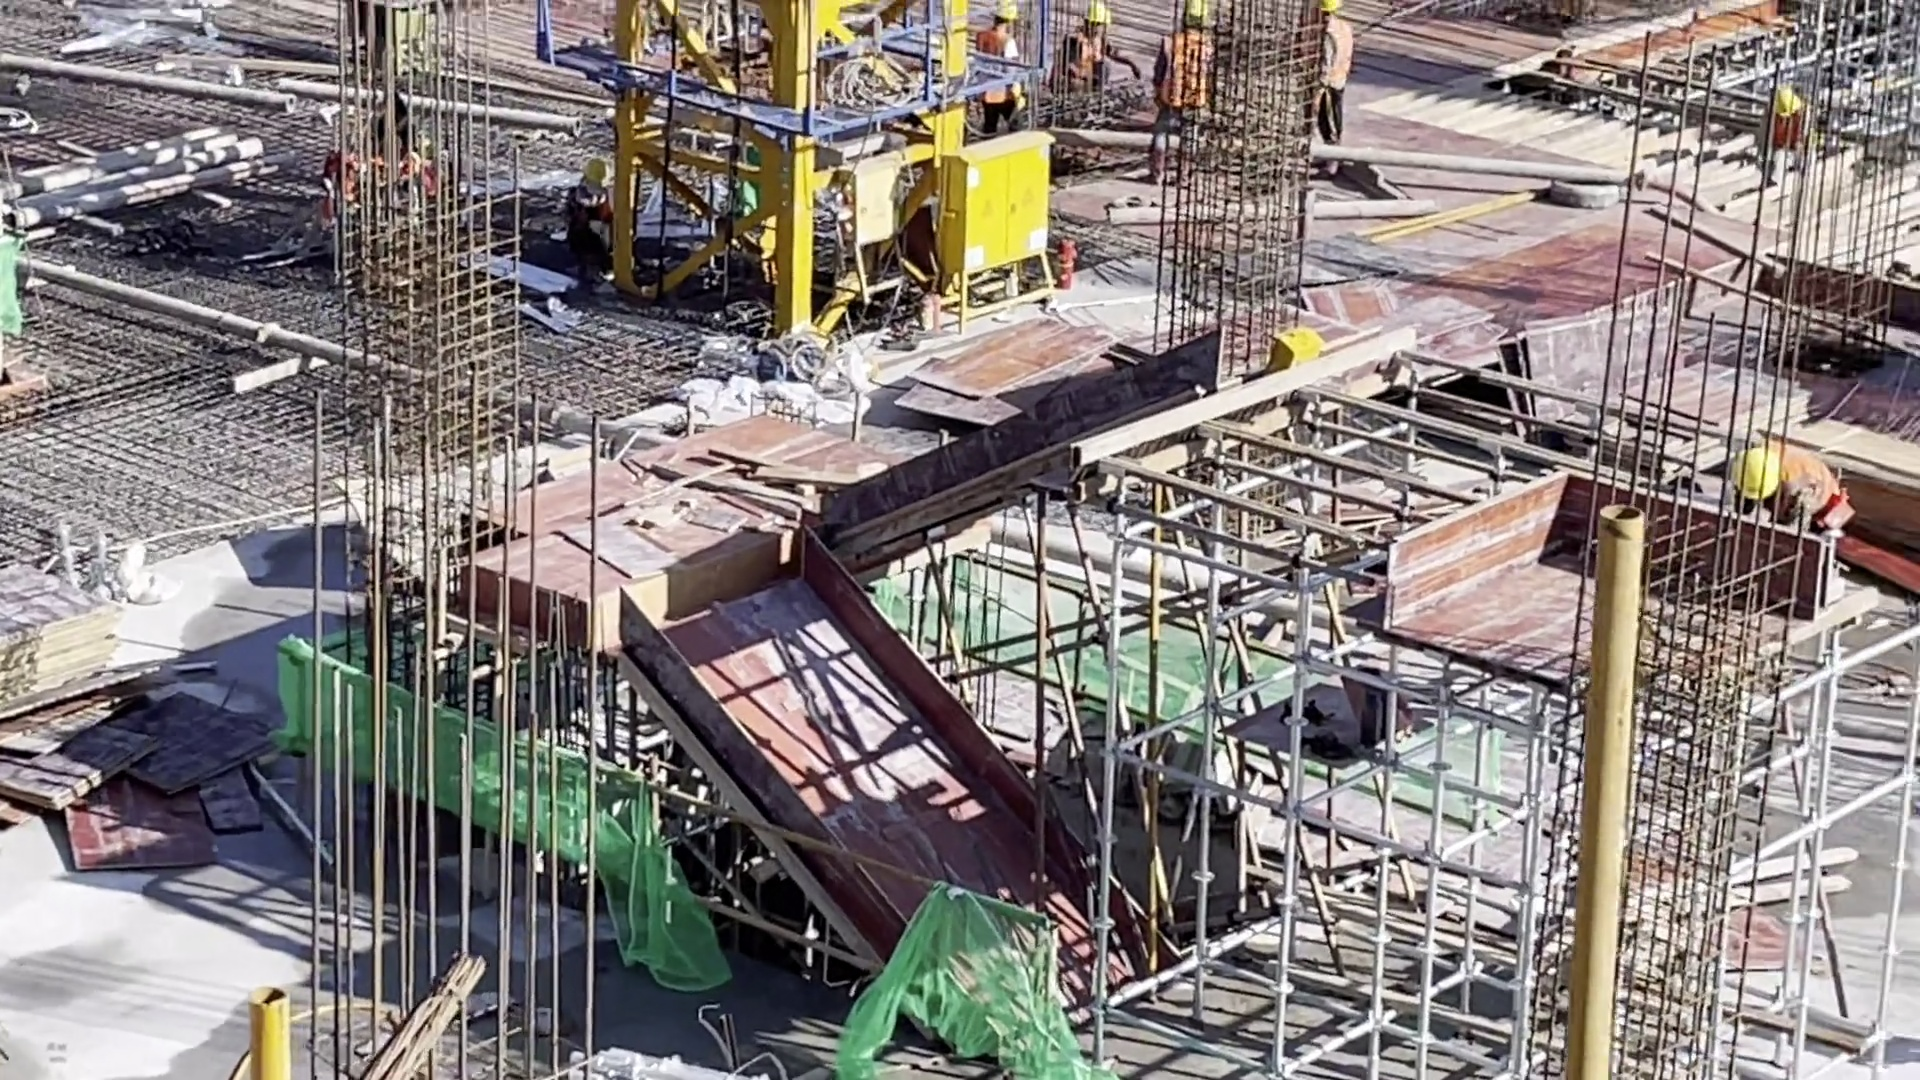helmet: (1732, 443, 1784, 497), (582, 155, 614, 190), (1079, 2, 1112, 26), (1768, 85, 1796, 105), (986, 1, 1019, 19), (1311, 1, 1339, 16), (1188, 1, 1203, 21)
person: (1719, 418, 1843, 546), (1142, 1, 1212, 184), (970, 1, 1035, 132), (1305, 1, 1351, 155), (1064, 1, 1125, 109), (1750, 83, 1823, 166), (565, 151, 614, 272)
vest: (1769, 444, 1856, 528), (1138, 31, 1215, 102), (579, 182, 621, 264), (1298, 25, 1352, 83), (977, 31, 1015, 105), (1061, 30, 1108, 91), (1764, 98, 1810, 149)
